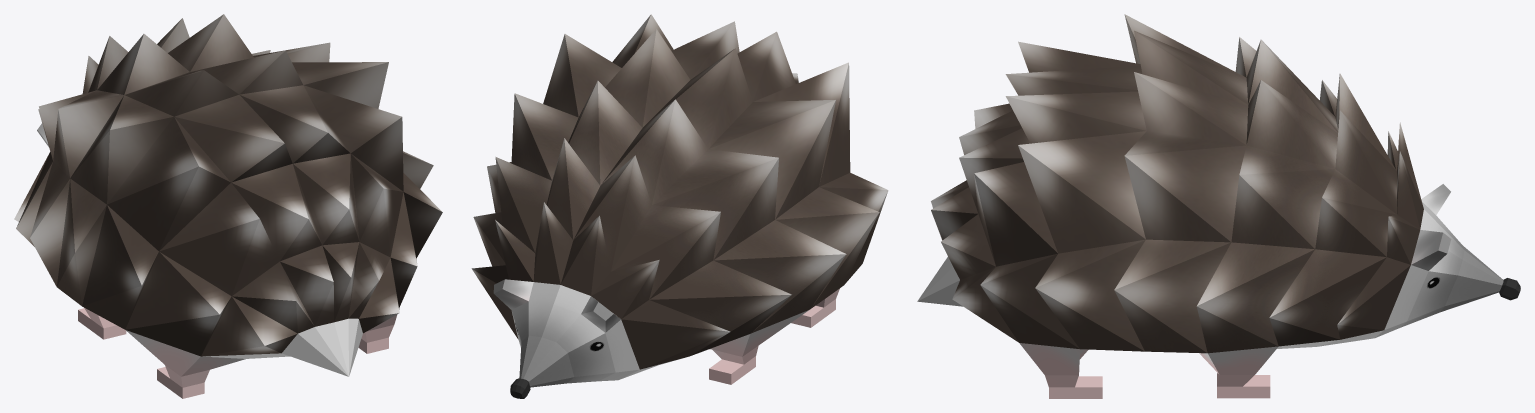
Rendered from Hedgehog.fbx.
The picture shows the model from 3 angles, left to right: view 1: azimuth 30°, elevation 25°; view 2: azimuth 150°, elevation 25°; view 3: azimuth 270°, elevation 25°; orthographic projection. The views are drawn at different scales.
Parts seen in each view (by area): view 1: Cube; view 2: Cube; view 3: Cube.
Part boxes in pixels (x1,y1,x2,y2): Cube: (14, 14, 442, 398); Cube: (471, 14, 888, 398); Cube: (917, 14, 1520, 398).
Bounding box in the file's own units: 54.95 × 40.28 × 74.56.
